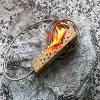fire: (47, 24, 67, 49)
